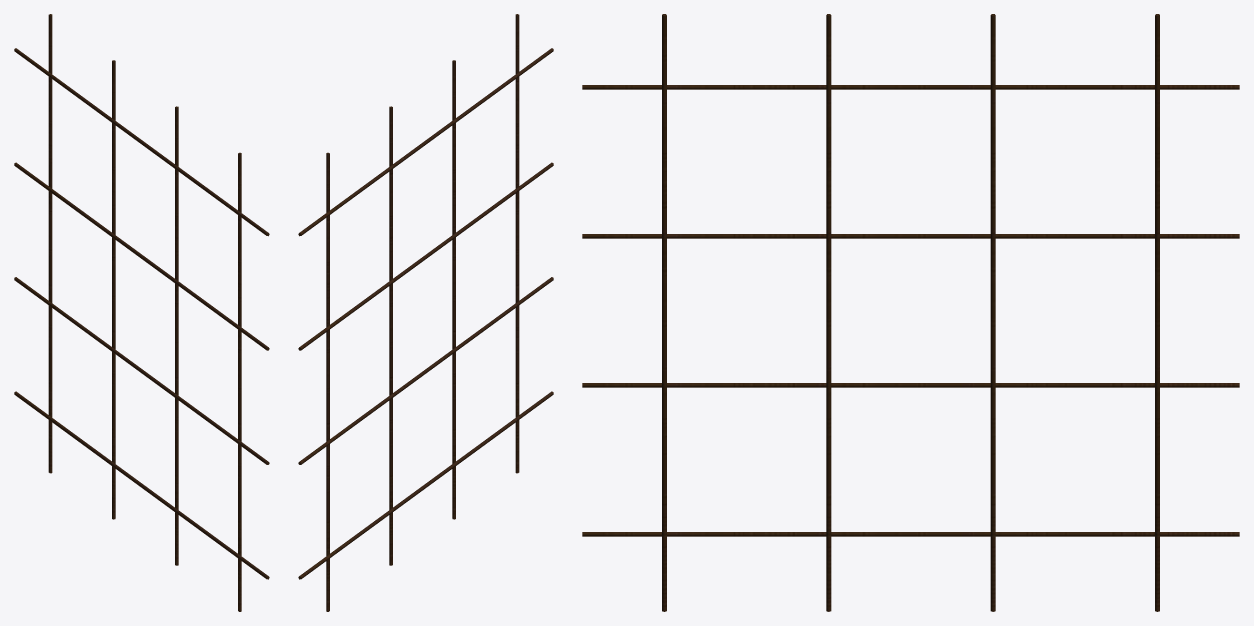
3 views of the same model, side by side, from view 1: azimuth 30°, elevation 25°; view 2: azimuth 150°, elevation 25°; view 3: azimuth 270°, elevation 25° (orthographic). The views are drawn at different scales.
Visible parts, largest first — view 1: body0_model0_lod0_mesh0; view 2: body0_model0_lod0_mesh0; view 3: body0_model0_lod0_mesh0.
Part boxes in pixels (x1,y1,x2,y2): body0_model0_lod0_mesh0: [14, 14, 269, 611]; body0_model0_lod0_mesh0: [298, 14, 553, 611]; body0_model0_lod0_mesh0: [582, 14, 1239, 611].
Size of the model in its own units: 1.95 by 128 by 128.
1 material, 1 textured.
